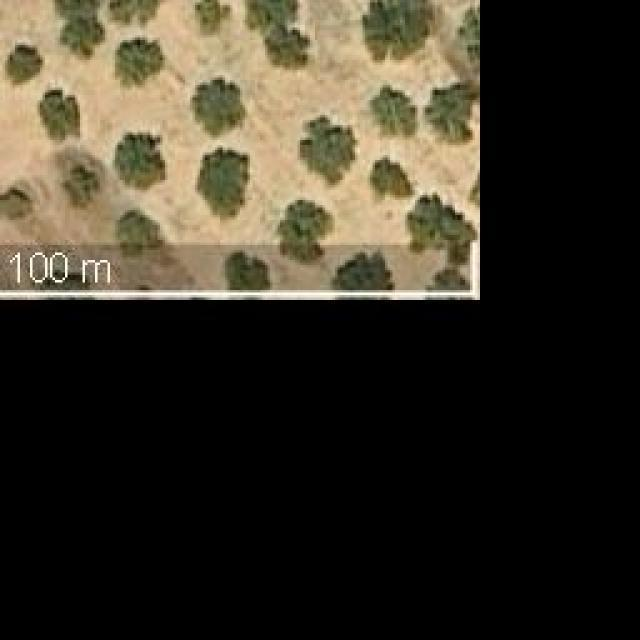Tree: (408, 192, 478, 290), (363, 0, 439, 66), (245, 0, 313, 70), (300, 117, 358, 185), (198, 145, 251, 215), (118, 210, 178, 268), (187, 78, 245, 138), (360, 82, 418, 140), (50, 0, 105, 58), (278, 200, 328, 263), (430, 80, 477, 147), (115, 135, 168, 190), (115, 38, 165, 88), (223, 250, 276, 297), (335, 250, 394, 292), (38, 90, 81, 143), (373, 155, 413, 195), (63, 165, 98, 208), (110, 0, 170, 22), (10, 45, 43, 83), (195, 0, 230, 35), (0, 187, 32, 220)
